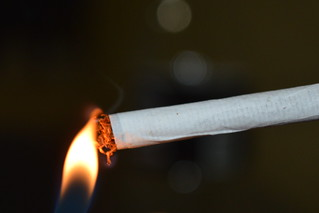cigarette: (86, 79, 318, 167)
